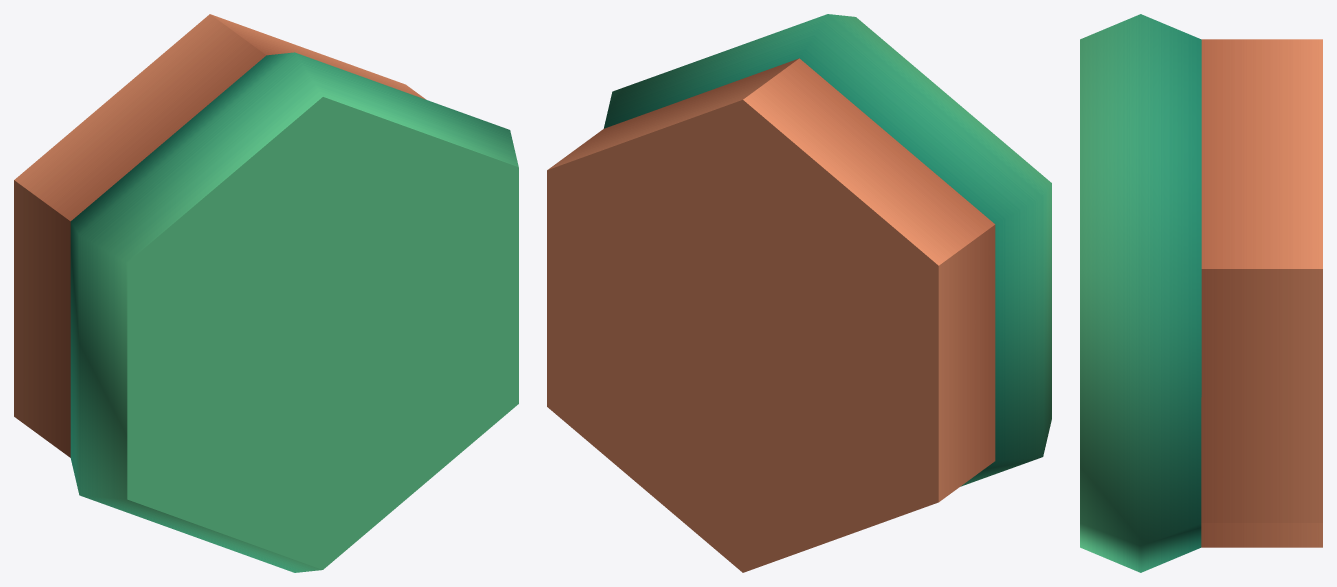
File: chão.glb
3 renders of one model, left to right at view 1: azimuth 30°, elevation 25°; view 2: azimuth 150°, elevation 25°; view 3: azimuth 270°, elevation 25°, orthographic. The views are drawn at different scales.
Visible parts, largest first — view 1: block-grass-low-hexagon; view 2: block-grass-low-hexagon; view 3: block-grass-low-hexagon.
Part boxes in pixels (bbox=[...]): block-grass-low-hexagon: bbox=[14, 14, 518, 572]; block-grass-low-hexagon: bbox=[547, 14, 1051, 572]; block-grass-low-hexagon: bbox=[1080, 14, 1322, 572].
Size of the model in its own units: 1.1 by 1.27 by 0.5.
Materials: 1 (1 with a texture image).
